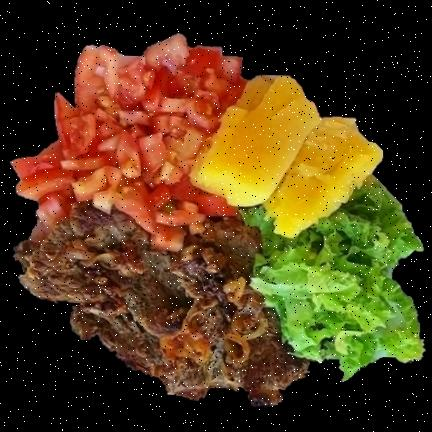cassava: (191, 81, 380, 236)
meat: (16, 207, 311, 403)
salad: (242, 182, 424, 378)
tomato: (12, 37, 243, 250)
